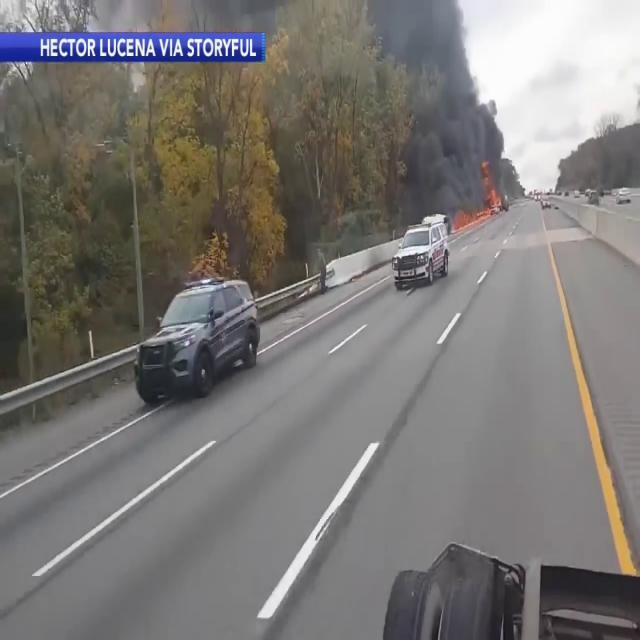Fire: (188, 229, 238, 283), (454, 184, 504, 228)
Smoke: (10, 0, 505, 260), (381, 0, 508, 212)
